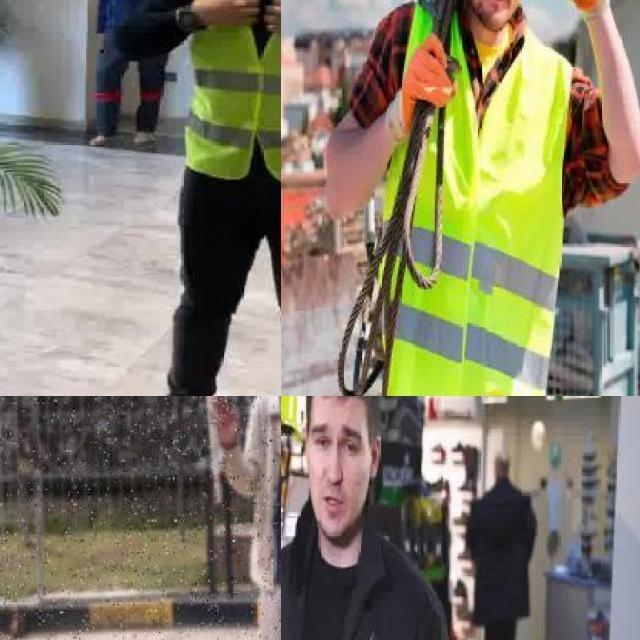apron: (383, 33, 457, 148)
